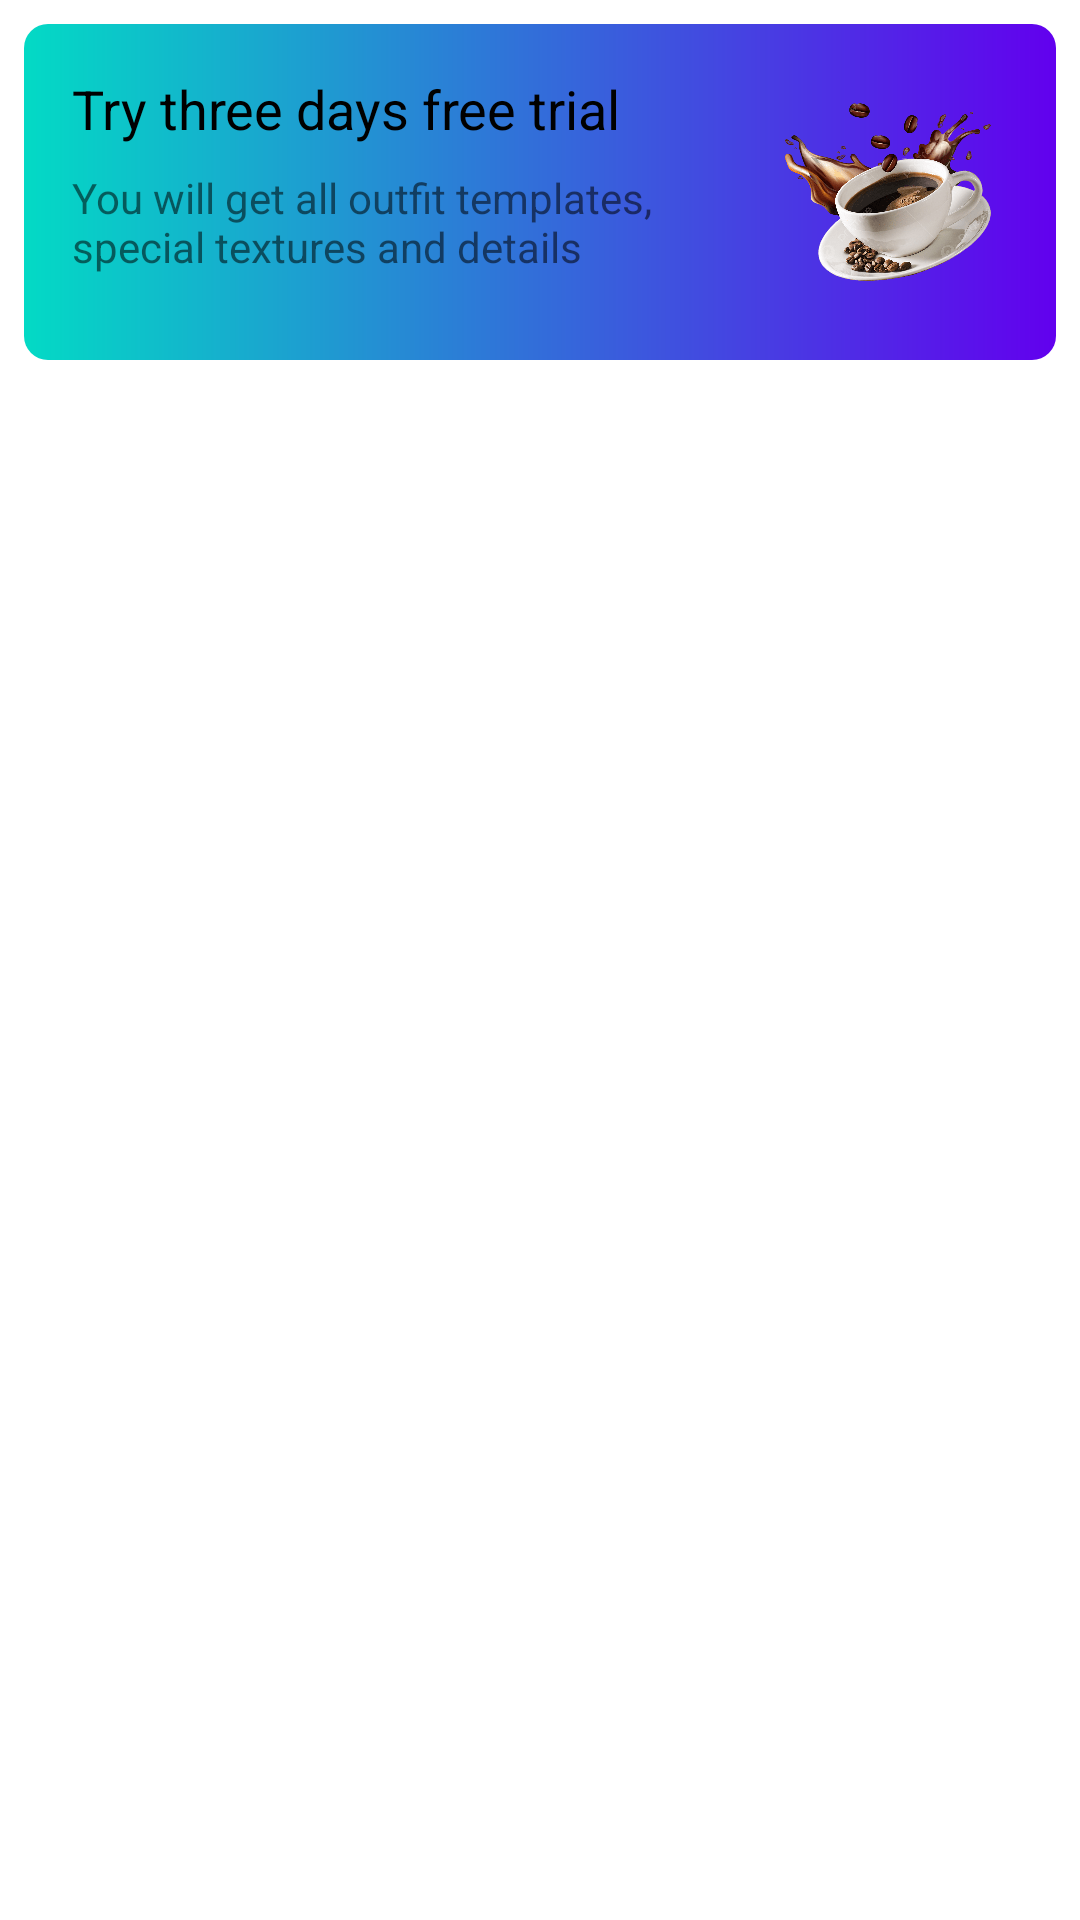

Screen size 1080px x 1920px. Icon name, then its center in pixels as (x,y):
coffie cup: (888,192)
